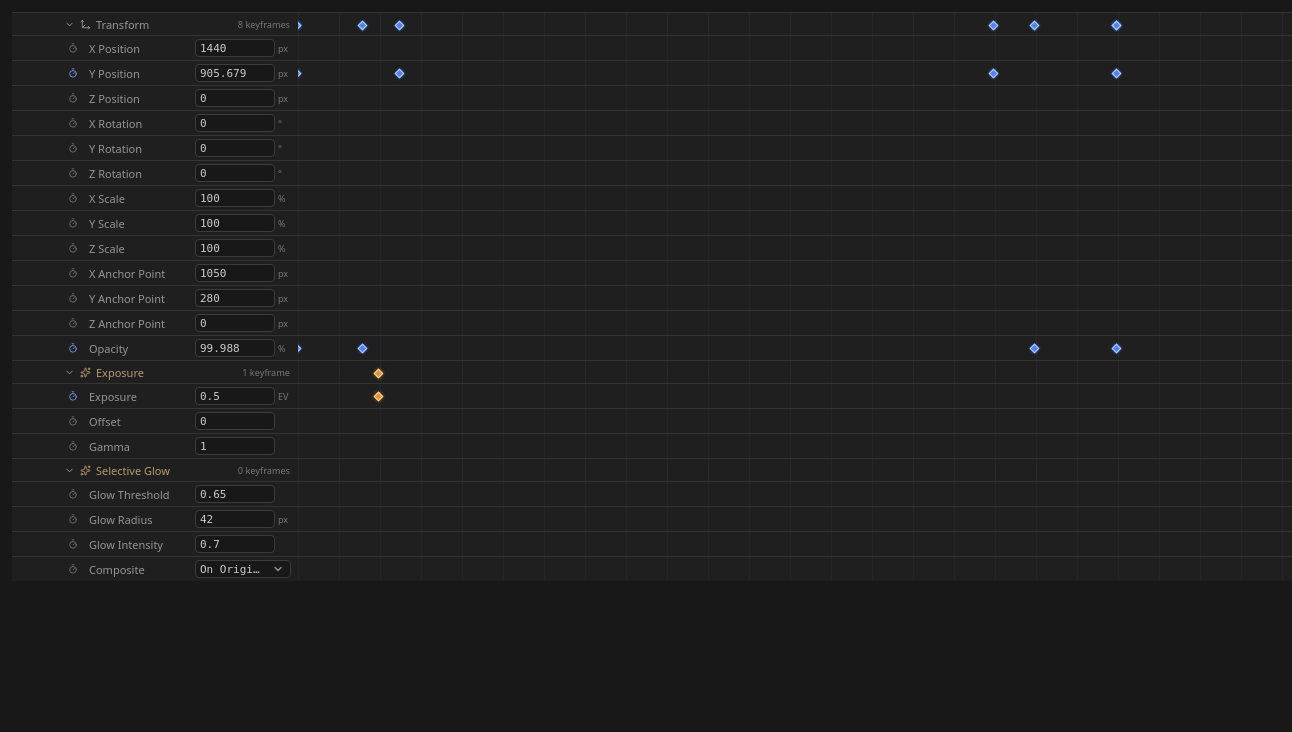
timeline property rows › places Timer before properties and collapses transform and effects independently
This screenshot has width=1292, height=732.
Expected: the icon with class "lucide-timer" next to "X Position" is shown, [68,43,78,53]
Expected: the icon with class "lucide-move-3d" is shown, [80,18,91,30]
Step 1. Click the button with aria-label "Collapse Transform properties" → (123, 24), box [12,13,298,35]
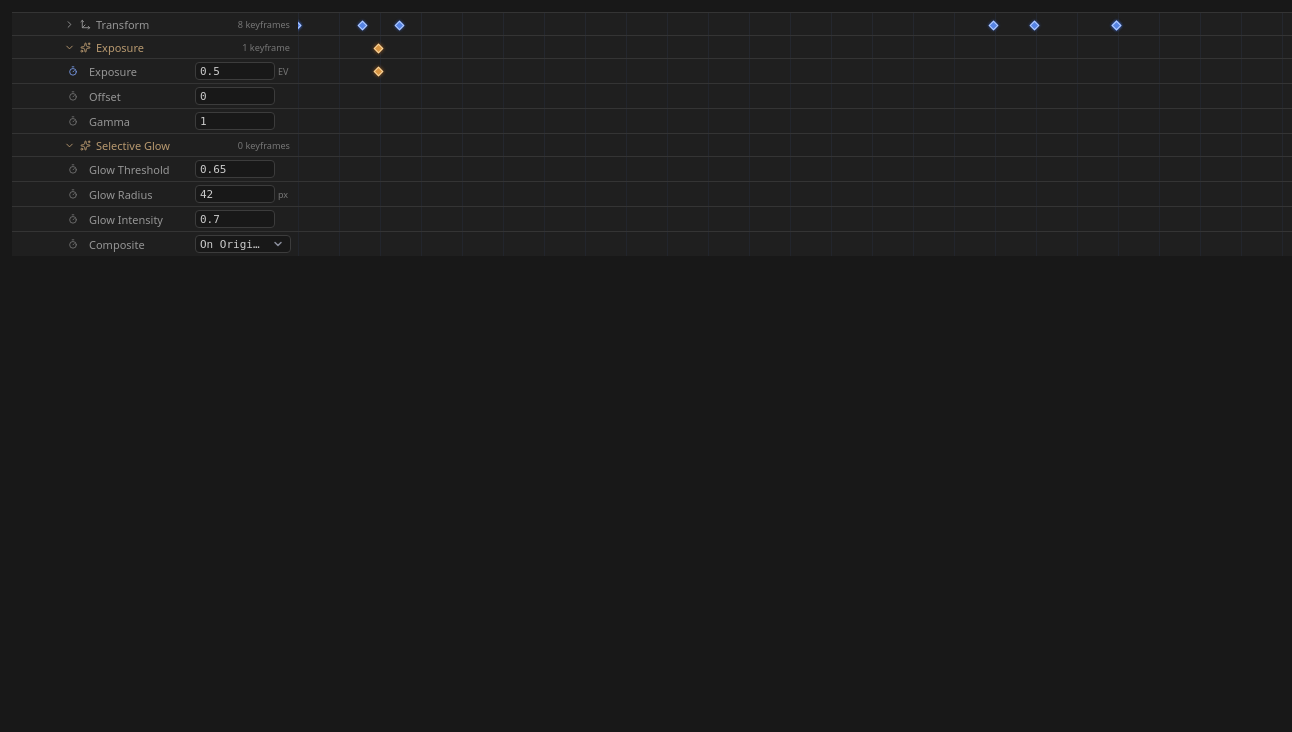
Expected: the button named "Collapse Transform properties" is collapsed, [12,13,298,35]
Expected: the text "X Position px" is gone
Step 2. Click the button with aria-label "Collapse Exposure properties" → (120, 47), box [12,36,298,58]
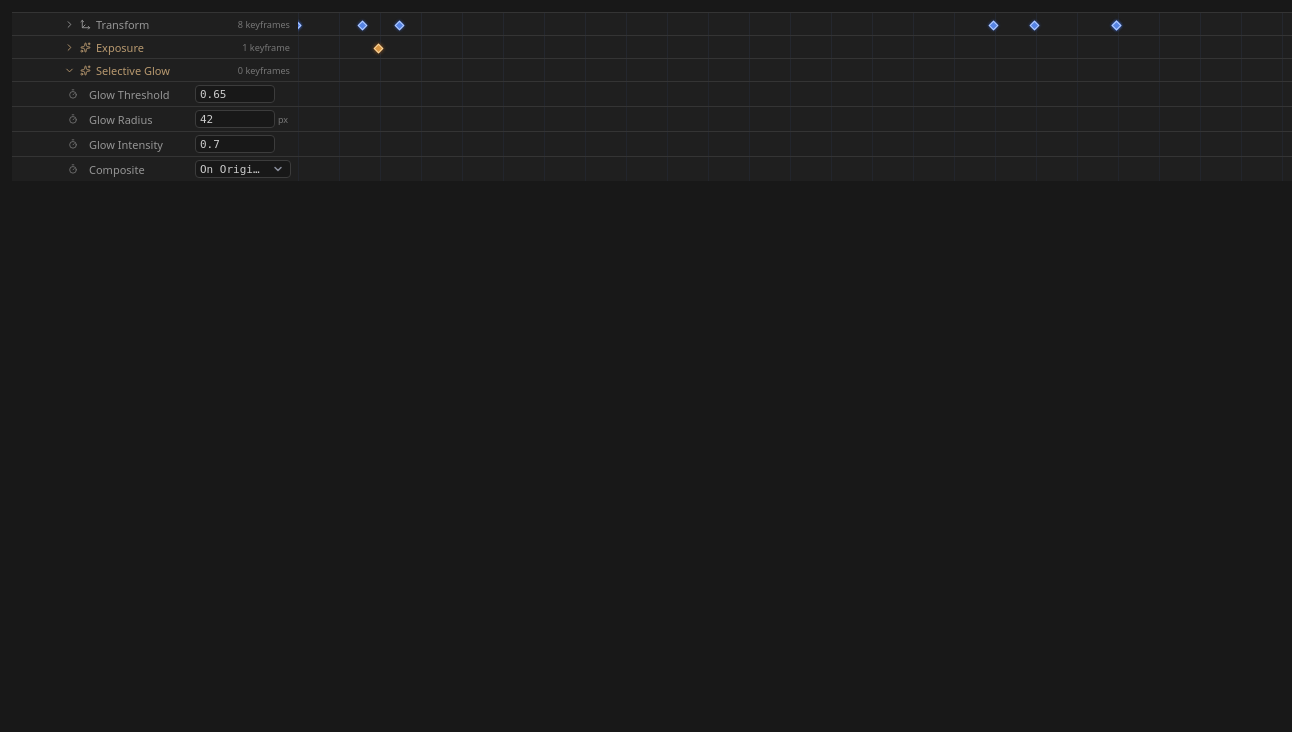
Expected: the element with class "timeline-property-row" showing "Glow Threshold" is shown, [12,81,1291,106]
Expected: the button named "Collapse Exposure properties" is collapsed
Expected: the text "Exposure EV" is gone
Step 3. Click the button named "Collapse Exposure properties" → (120, 47), box [12,36,298,58]
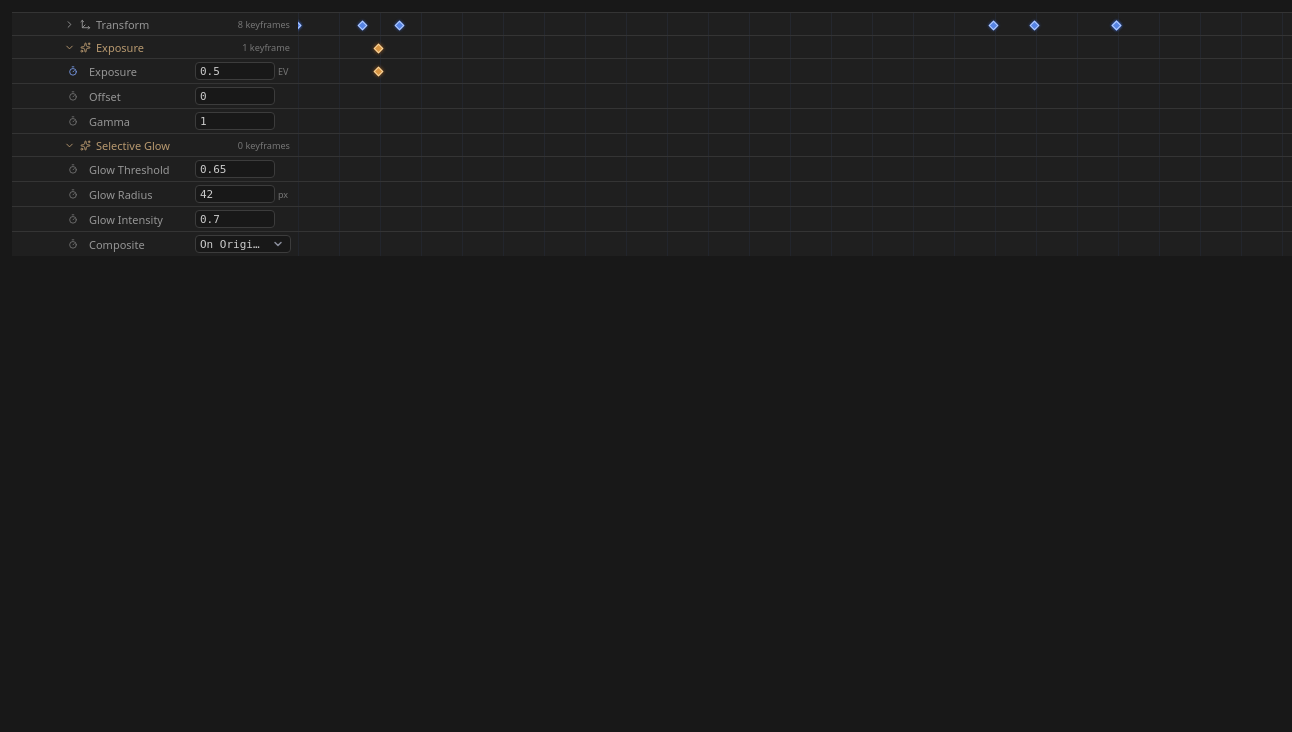
Expected: the button with aria-label "Collapse Exposure properties" is expanded, [12,36,298,58]
